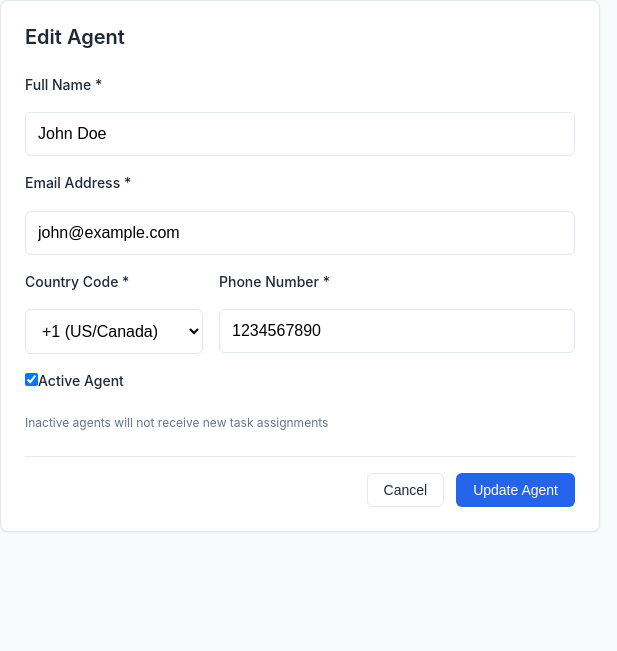
Test: EditAgent › shows validation errors for empty required fields
Clear the field showing "John Doe": (300, 134) [25, 112, 575, 156]
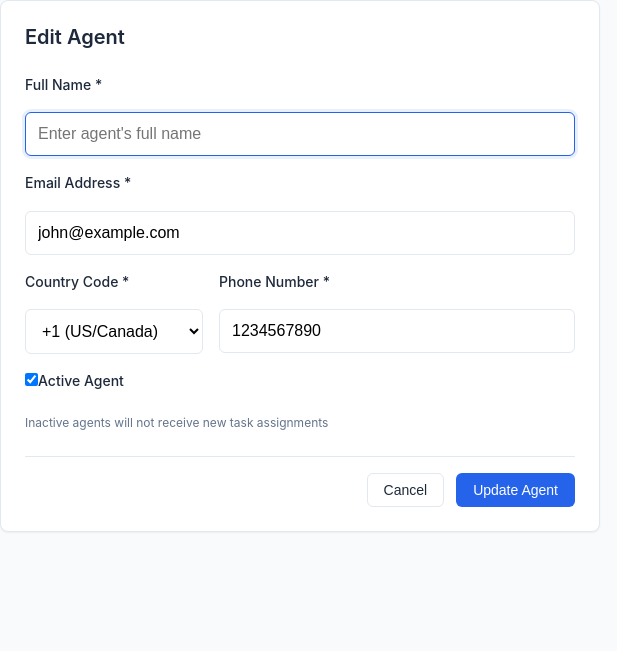
Clear the field showing "john@example.com": (300, 233) [25, 211, 575, 255]
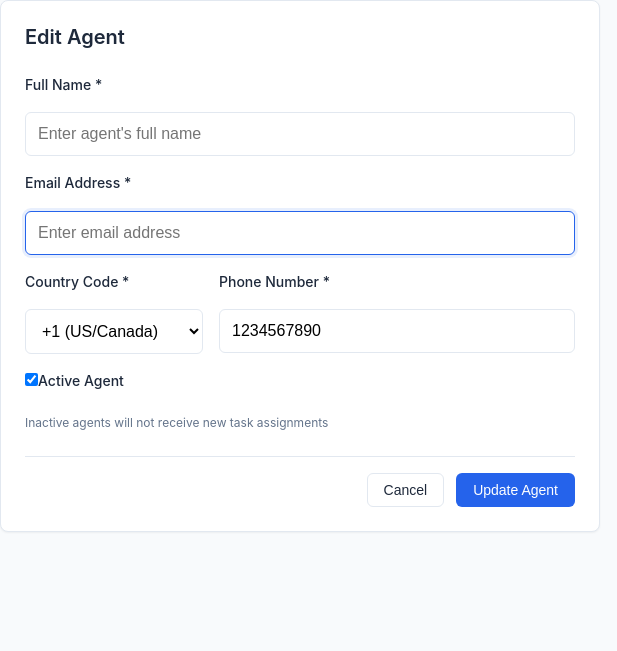
Clear the field showing "1234567890": (397, 331) [219, 309, 575, 353]
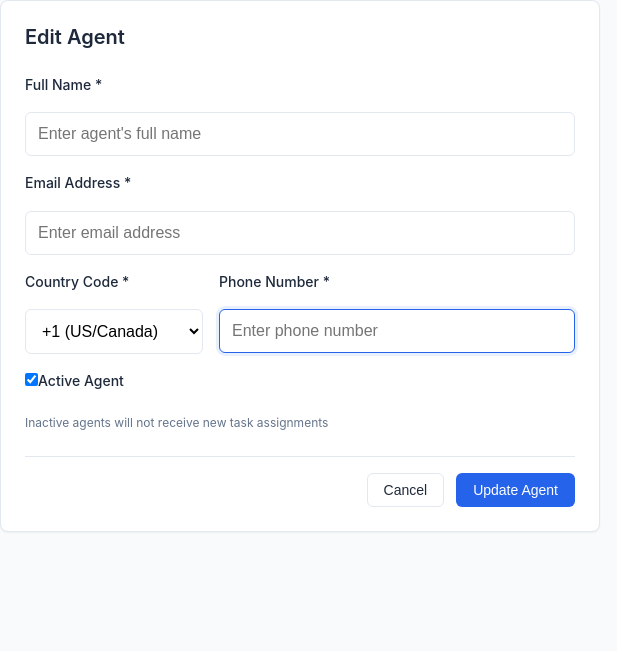
Click the button "Update Agent": (516, 490) [456, 473, 575, 507]
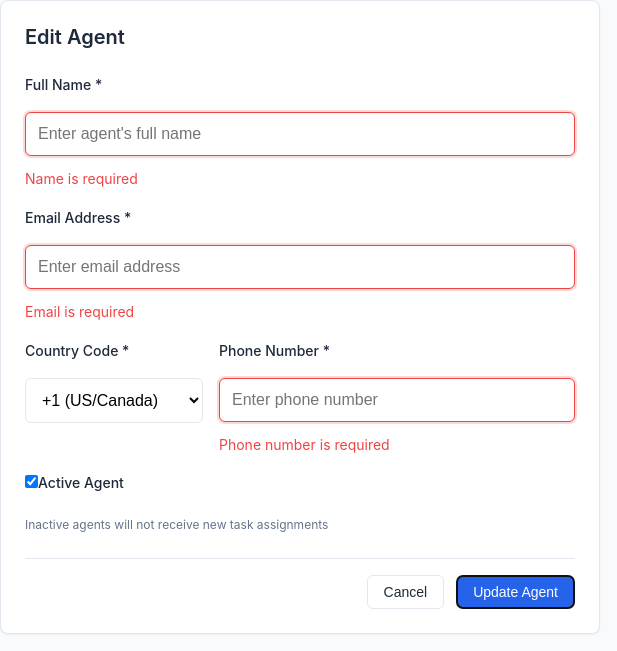
expect the text "Name is required" is shown: met, box [25, 170, 138, 187]
expect the text "Email is required" is shown: met, box [25, 303, 134, 320]
expect the text "Phone number is required" is shown: met, box [219, 436, 390, 453]
